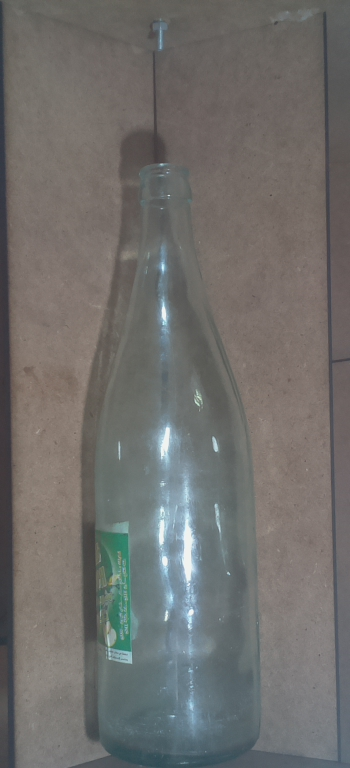Glass: (81, 157, 272, 768)
